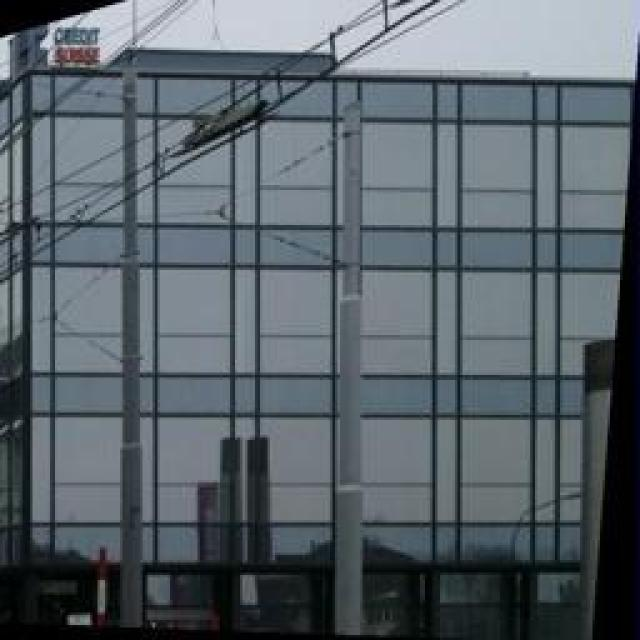building: (12, 30, 640, 620)
